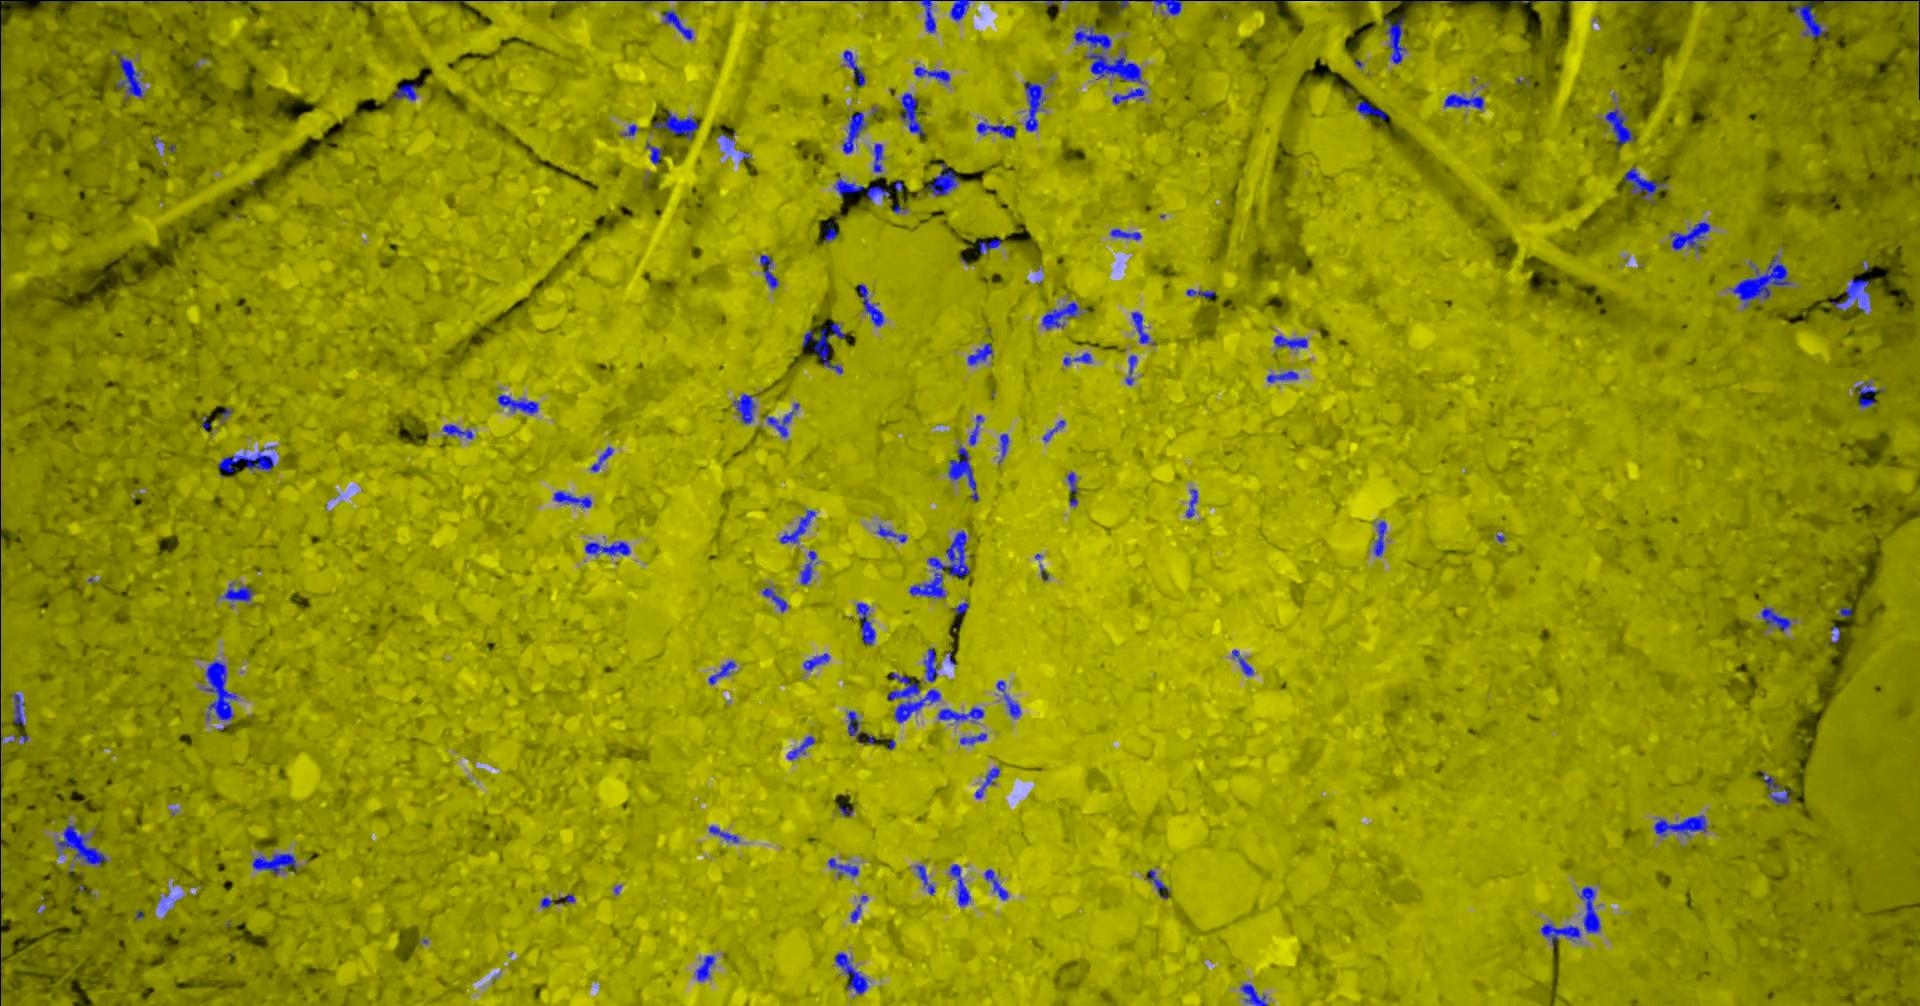ant: (889, 672, 942, 721), (803, 323, 848, 373), (1794, 0, 1851, 37), (204, 661, 239, 721), (58, 824, 108, 864), (1086, 52, 1145, 83), (218, 445, 276, 476), (949, 445, 980, 500), (836, 951, 869, 995), (836, 177, 891, 201), (764, 401, 801, 437), (654, 111, 700, 138), (1606, 108, 1637, 149), (117, 55, 143, 100), (1625, 166, 1665, 197), (781, 509, 817, 542), (1672, 221, 1710, 251), (1832, 278, 1870, 309), (858, 285, 885, 326), (1655, 815, 1708, 836), (927, 163, 959, 196), (1385, 15, 1407, 64), (902, 91, 924, 136), (1043, 301, 1081, 328), (1026, 81, 1046, 131), (1763, 771, 1793, 804), (1581, 887, 1603, 932), (1542, 923, 1582, 948), (844, 111, 867, 152), (254, 854, 297, 875), (998, 680, 1022, 718), (664, 10, 695, 39), (1076, 25, 1112, 50), (857, 602, 877, 645), (951, 862, 971, 904), (498, 394, 540, 413), (844, 50, 866, 86), (985, 868, 1010, 899), (1133, 311, 1156, 344), (977, 767, 1001, 798), (1857, 381, 1884, 406), (1763, 607, 1792, 631), (789, 735, 817, 760), (585, 541, 632, 555), (938, 708, 985, 721), (1355, 100, 1389, 119), (1445, 93, 1484, 109), (554, 490, 593, 507), (916, 864, 936, 895), (763, 587, 790, 611), (709, 661, 737, 683), (761, 255, 780, 288), (737, 392, 757, 423), (916, 66, 952, 83), (1242, 983, 1270, 1005), (978, 122, 1017, 137), (1149, 869, 1170, 898), (1112, 86, 1145, 104), (1145, 0, 1183, 15), (969, 342, 994, 365), (592, 446, 615, 471), (829, 857, 860, 876), (696, 954, 717, 981), (223, 583, 255, 601), (1233, 649, 1255, 674), (877, 525, 908, 542), (850, 710, 867, 741), (921, 0, 937, 32), (803, 550, 818, 584), (924, 648, 940, 681), (710, 826, 740, 842), (952, 0, 977, 20), (970, 414, 985, 445), (394, 83, 419, 100), (1044, 420, 1065, 441), (1275, 335, 1309, 348), (444, 424, 475, 438), (11, 694, 25, 724), (1375, 520, 1387, 556), (805, 653, 830, 669), (1269, 370, 1300, 382), (1065, 352, 1093, 365), (961, 732, 988, 744), (1112, 227, 1142, 239), (1187, 488, 1199, 517), (648, 142, 663, 164), (980, 238, 1002, 253), (1128, 354, 1138, 384), (875, 144, 884, 177), (1189, 288, 1217, 298), (1001, 433, 1010, 464), (825, 221, 838, 241), (1068, 471, 1079, 493), (1098, 0, 1130, 8), (852, 903, 862, 922), (955, 602, 970, 614)
